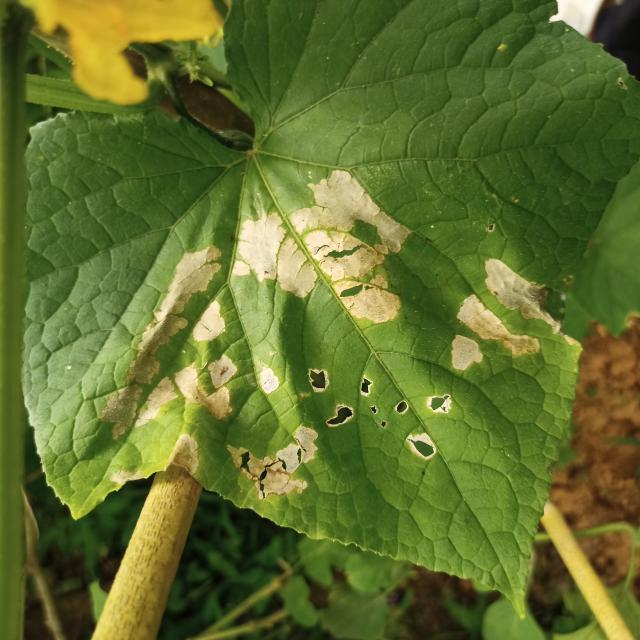disease_cucumber: (103, 170, 563, 496)
